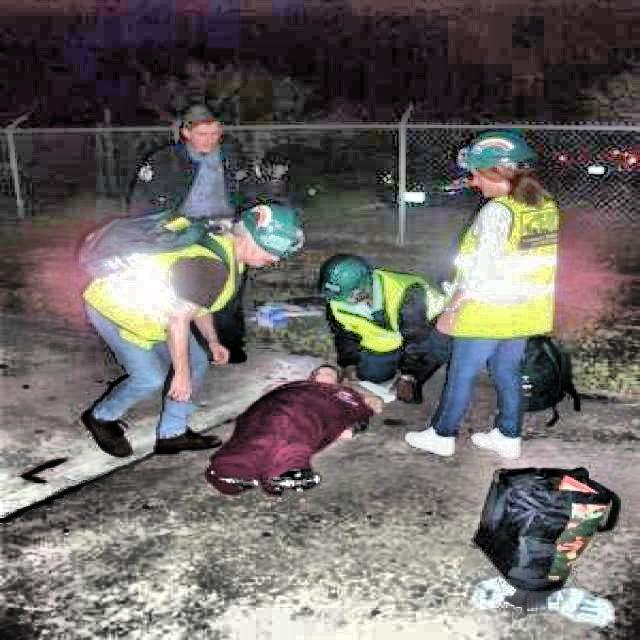safety_jacket: (92, 224, 228, 342), (448, 196, 561, 336), (334, 292, 436, 360)
